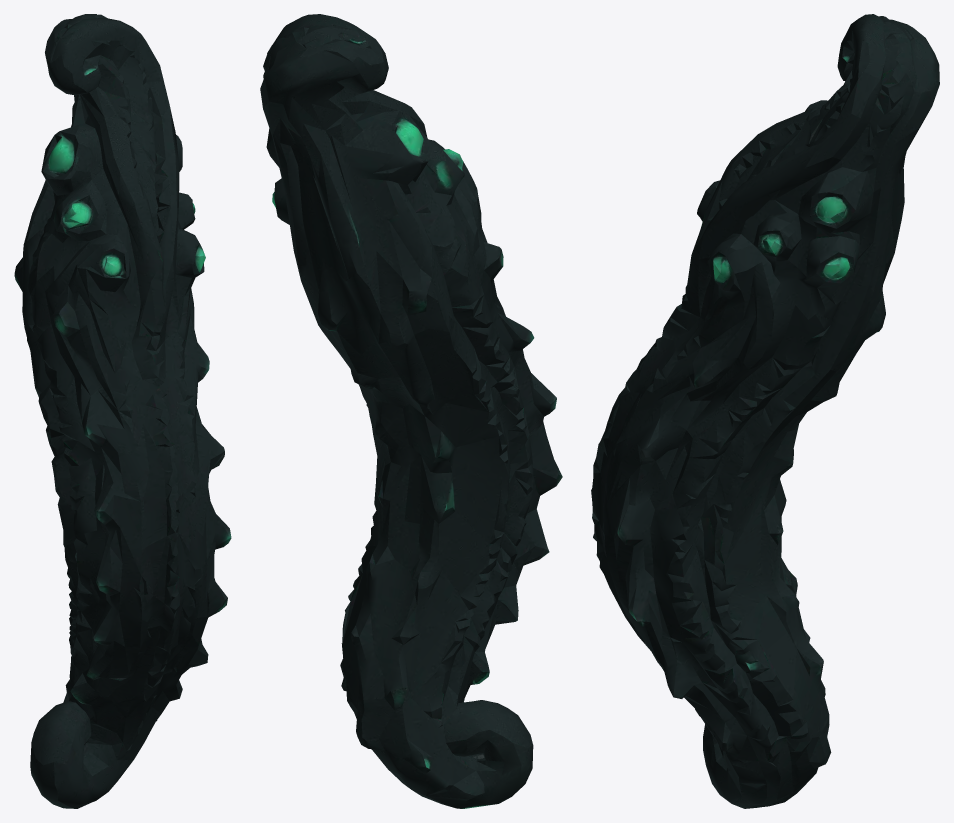
The model's file is lumen_tentacle.glb.
The picture shows the model from 3 angles, left to right: view 1: azimuth 30°, elevation 25°; view 2: azimuth 150°, elevation 25°; view 3: azimuth 270°, elevation 25°; orthographic projection. The views are drawn at different scales.
Size of the model in its own units: 0.8094 by 3 by 1.16.
Materials: 1 (1 with a texture image).
